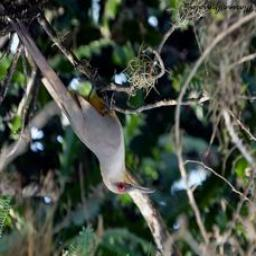Cuckoo: (6, 12, 158, 197)
